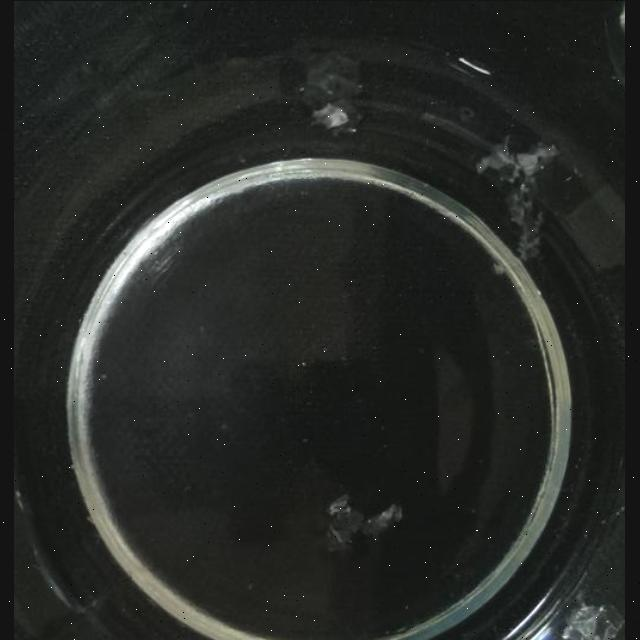Fibre: (476, 136, 562, 260), (326, 492, 402, 550), (504, 184, 546, 262), (314, 98, 362, 134), (362, 502, 403, 536), (494, 261, 508, 275)
